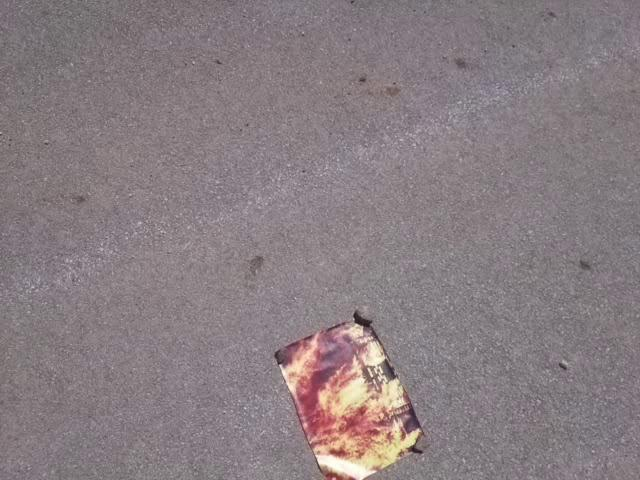fire-poster: (272, 306, 426, 479)
